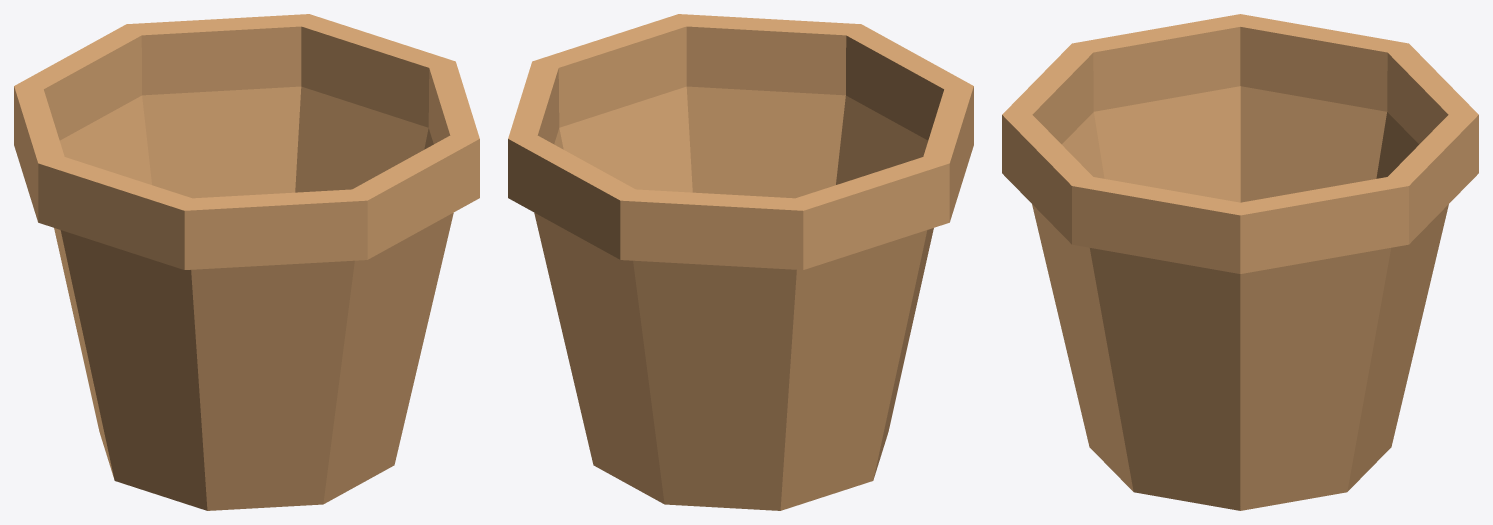
File: PlantPot.fbx
3 renders of one model, left to right at view 1: azimuth 30°, elevation 25°; view 2: azimuth 150°, elevation 25°; view 3: azimuth 270°, elevation 25°, orthographic.
Visible parts, largest first — view 1: Cylinder.002; view 2: Cylinder.002; view 3: Cylinder.002.
Boxes of the visible parts, bbox=[...] form: Cylinder.002: bbox=[14, 14, 479, 510]; Cylinder.002: bbox=[508, 14, 973, 510]; Cylinder.002: bbox=[1002, 14, 1478, 510].
Bounding box in the file's own units: 1105 × 850 × 1105.
